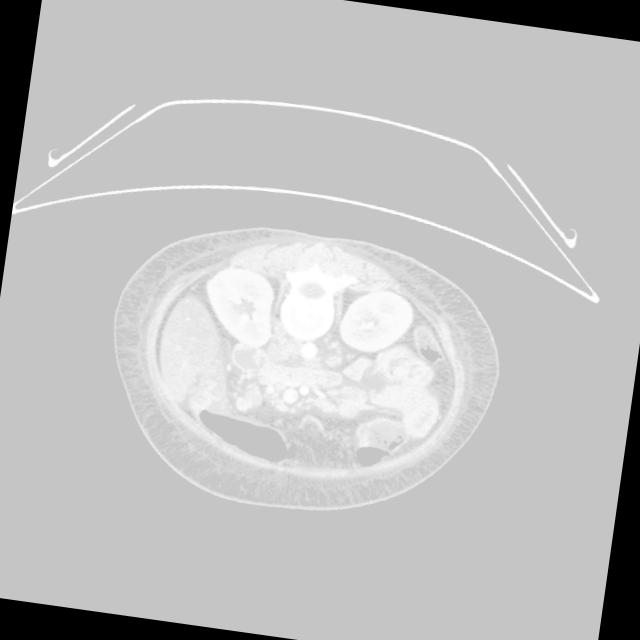NORMAL: (86, 175, 516, 538)
